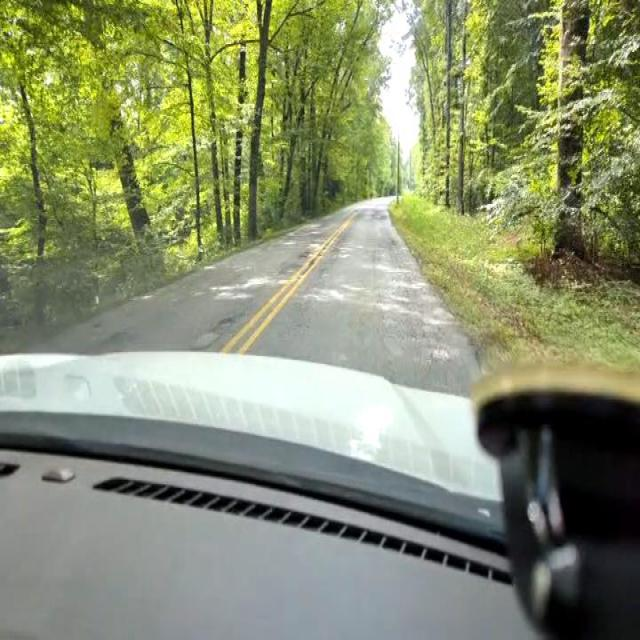pothole: (220, 312, 235, 328), (300, 245, 311, 259)
